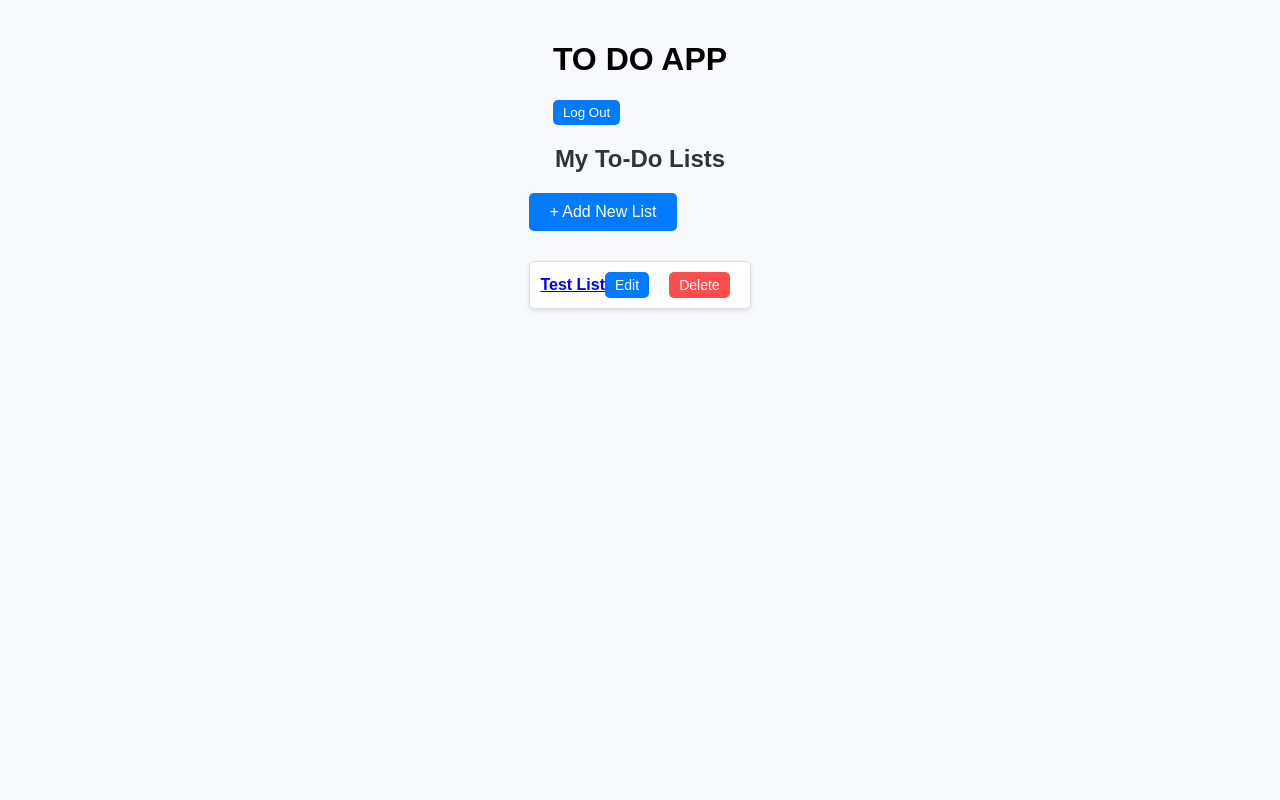
Test: ListsPage Component › opens modal in 'edit' mode when Edit button is clicked
This screenshot has width=1280, height=800.
Click the button "Edit".
click(627, 285)  # box [605,272,649,298]
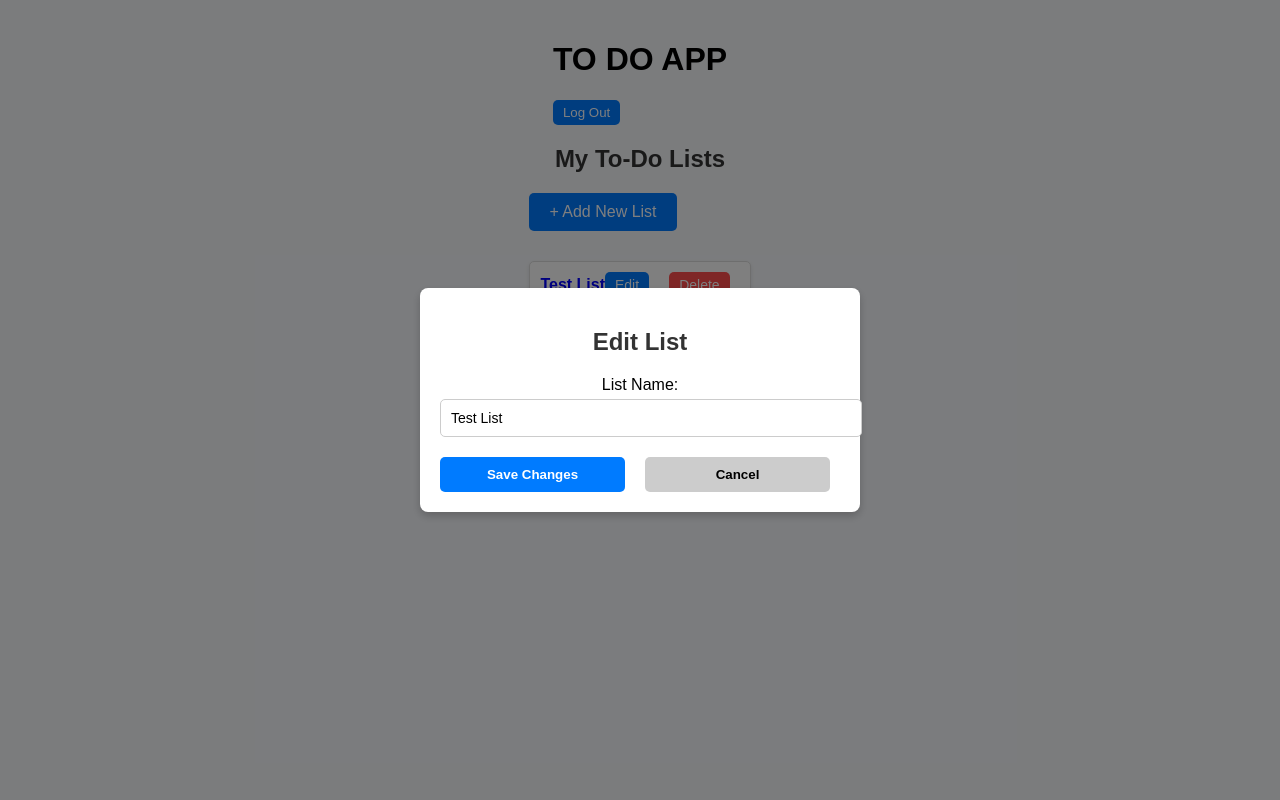
Check: the field showing "Test List" is shown, box [440,399,862,437]
